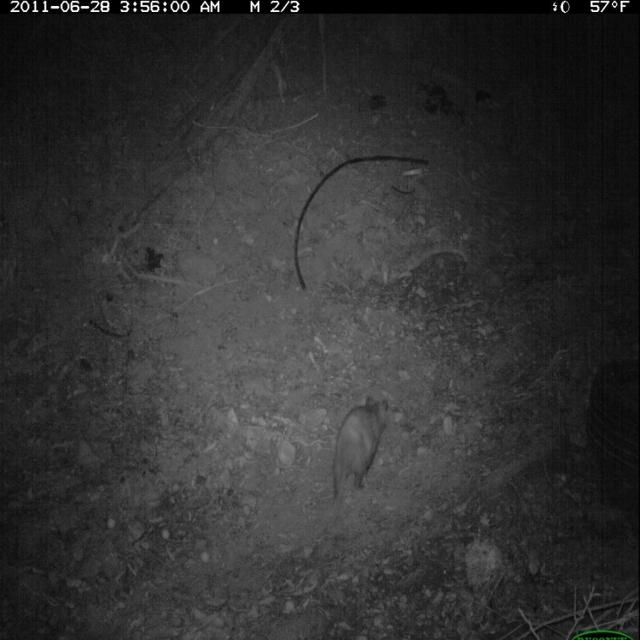opossum: (322, 389, 393, 521)
